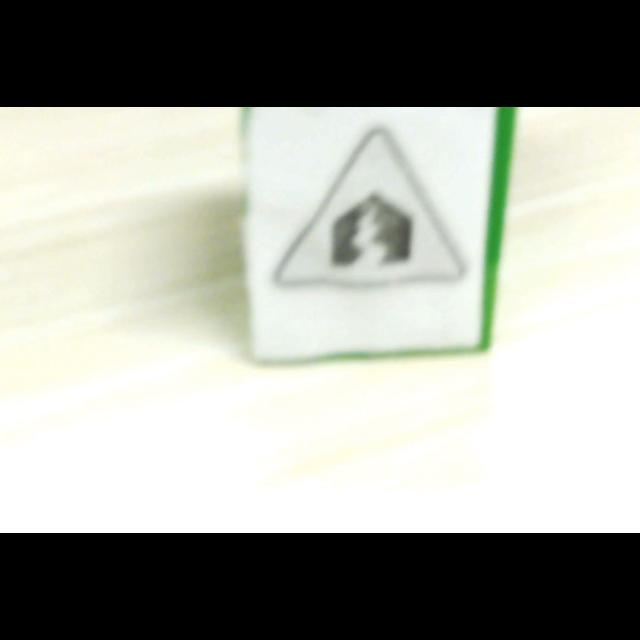Earthquake: (274, 128, 463, 287)
